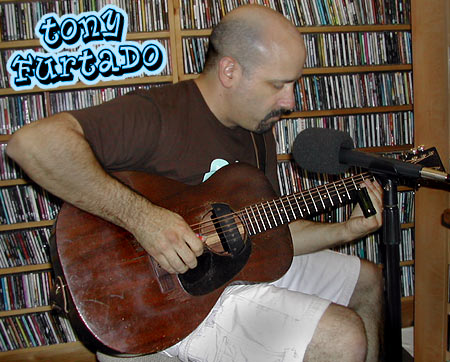guitar: (53, 145, 446, 359)
